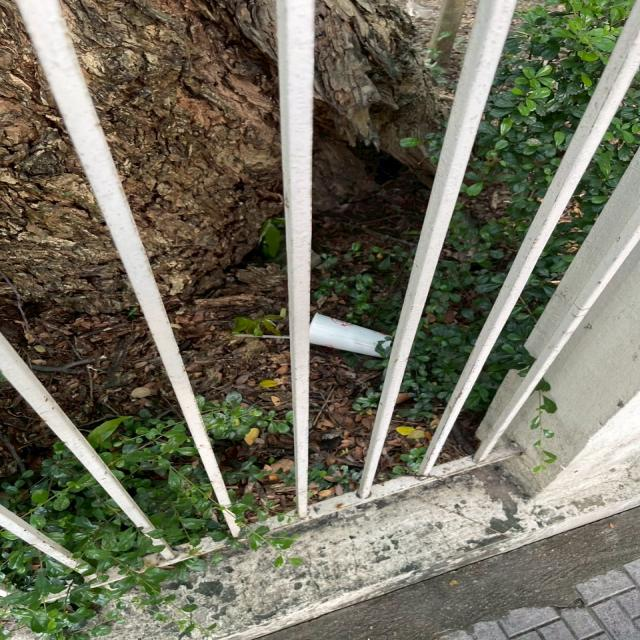plastic cup: (311, 310, 392, 359)
